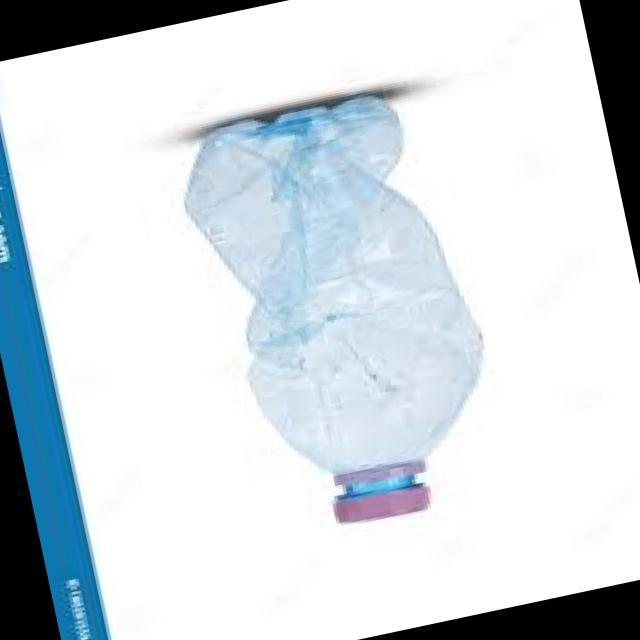defected: (140, 67, 526, 580)
